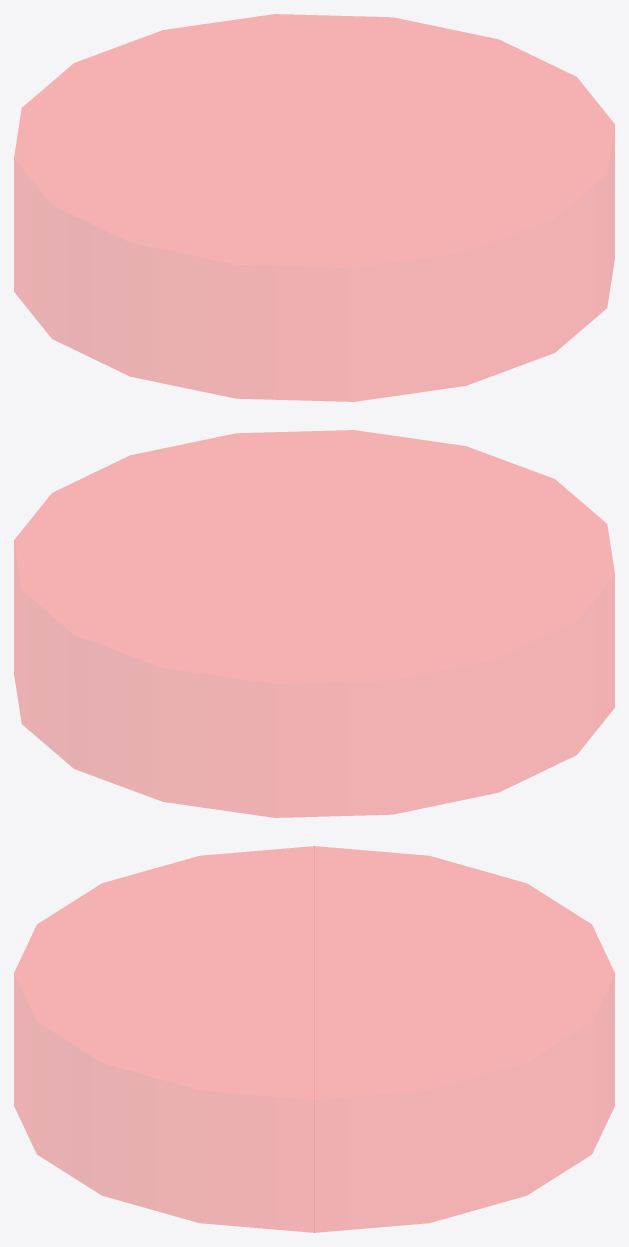
File: s01a_nc2-obstacles.glb
The picture shows the model from 3 angles, top to bottom: view 1: azimuth 30°, elevation 25°; view 2: azimuth 150°, elevation 25°; view 3: azimuth 270°, elevation 25°; orthographic projection.
Parts seen in each view (by area): view 1: boulder-colonly; view 2: boulder-colonly; view 3: boulder-colonly.
Boxes of the visible parts, bbox=[...] form: boulder-colonly: bbox=[14, 14, 614, 401]; boulder-colonly: bbox=[14, 430, 614, 817]; boulder-colonly: bbox=[14, 846, 614, 1232].
Size of the model in its own units: 8.2 by 2 by 8.2.
